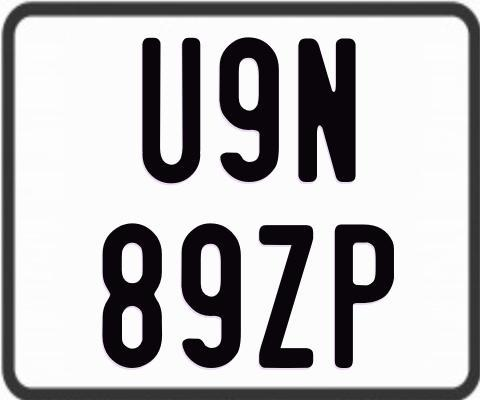8: (102, 223, 162, 372)
9: (181, 222, 245, 371), (216, 34, 276, 181)
N: (297, 36, 357, 181)
P: (334, 224, 396, 371)
U: (139, 35, 203, 182)
Z: (257, 223, 312, 367)
